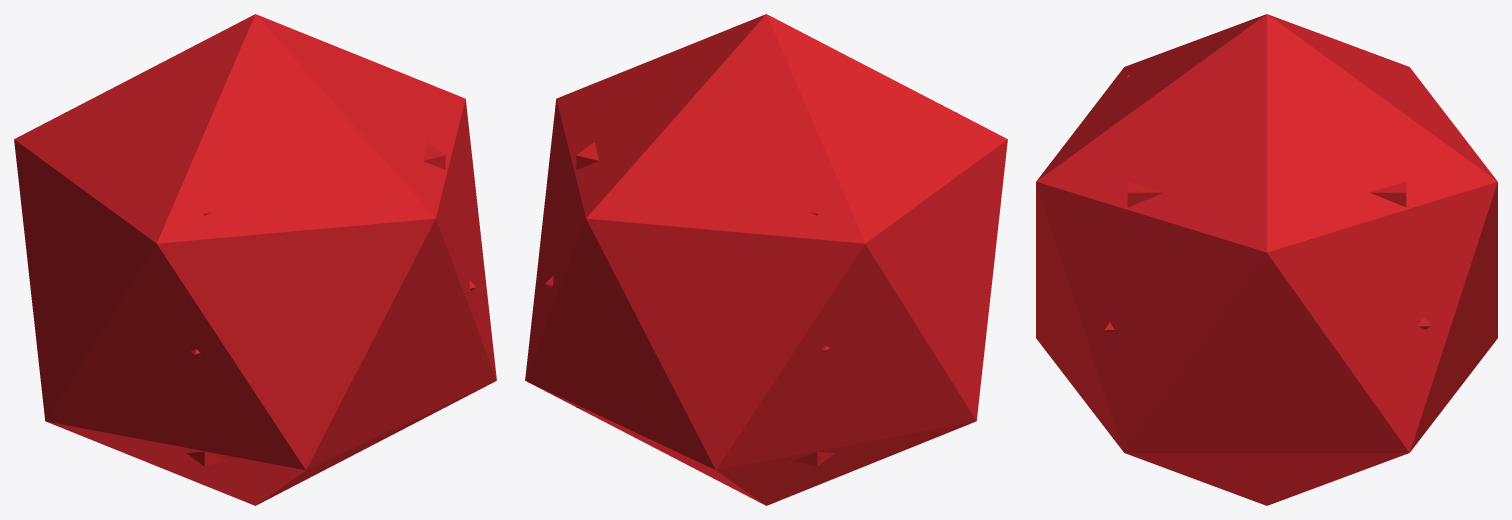
Rendered from dice.glb.
The picture shows the model from 3 angles, left to right: view 1: azimuth 30°, elevation 25°; view 2: azimuth 150°, elevation 25°; view 3: azimuth 270°, elevation 25°; orthographic projection.
Parts seen in each view (by area): view 1: d20, d6; view 2: d20, d6; view 3: d20, d6.
Part boxes in pixels (bbox=[...]): d20: bbox=[14, 14, 496, 505]; d6: bbox=[65, 112, 445, 466]; d20: bbox=[525, 14, 1007, 505]; d6: bbox=[576, 112, 956, 466]; d20: bbox=[1036, 14, 1497, 505]; d6: bbox=[1127, 75, 1406, 207].
Bounding box in the file's own units: 1.79 × 2 × 1.7.
